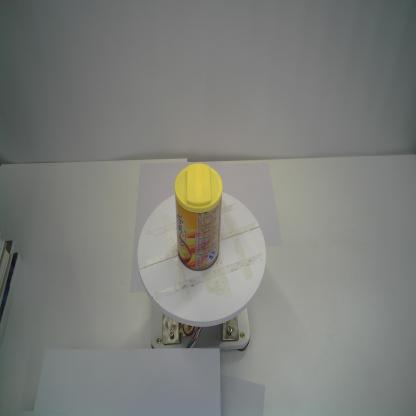Canned Food: (174, 162, 224, 272)
